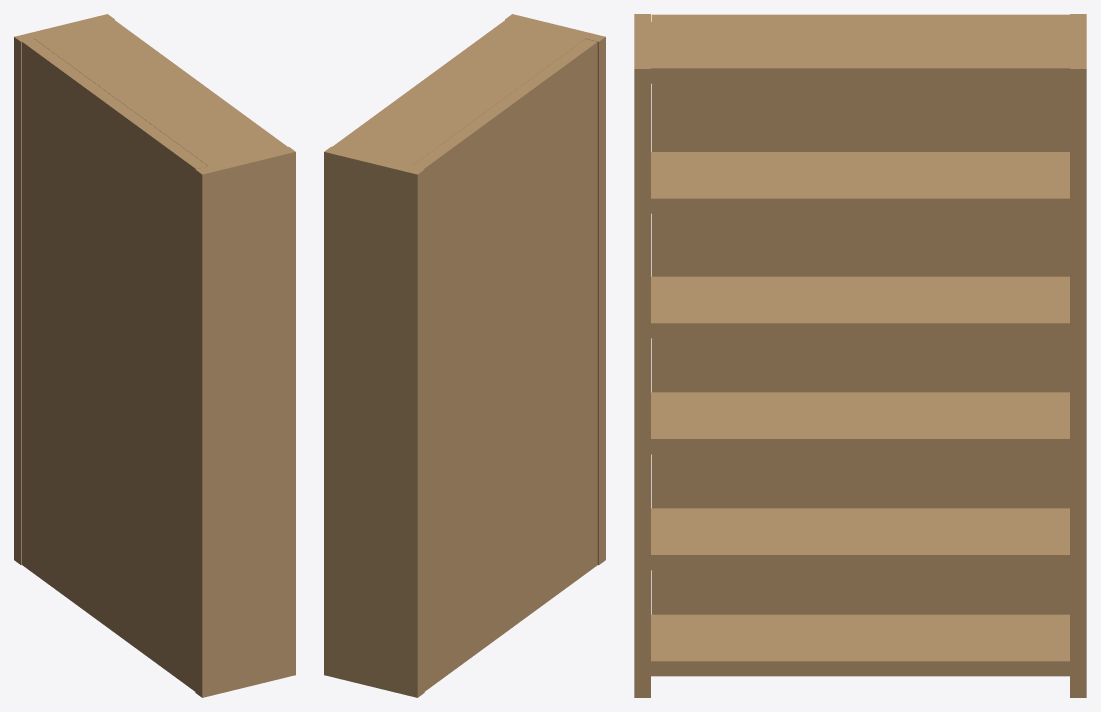
The model's file is shelf.fbx.
3 views of the same model, side by side, from view 1: azimuth 30°, elevation 25°; view 2: azimuth 150°, elevation 25°; view 3: azimuth 270°, elevation 25° (orthographic). The views are drawn at different scales.
Parts seen in each view (by area): view 1: Cube.006; view 2: Cube.006; view 3: Cube.006.
Part boxes in pixels (box(x1,y1,x2,y2)): Cube.006: box(14, 14, 295, 697); Cube.006: box(324, 14, 605, 697); Cube.006: box(634, 14, 1086, 697).
Size of the model in its own units: 296 by 1583 by 1032.
